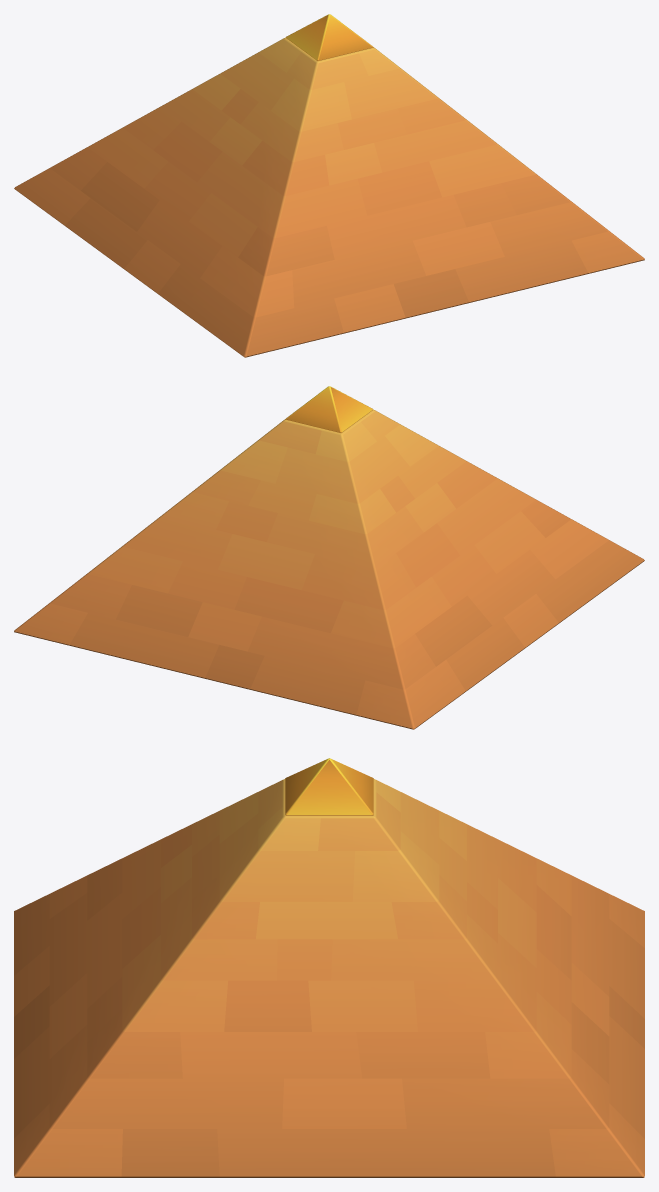
File: pyramid_medium.fbx
The picture shows the model from 3 angles, top to bottom: view 1: azimuth 30°, elevation 25°; view 2: azimuth 150°, elevation 25°; view 3: azimuth 270°, elevation 25°; orthographic projection. The views are drawn at different scales.
Visible parts, largest first — view 1: pyramid_medium; view 2: pyramid_medium; view 3: pyramid_medium.
Boxes of the visible parts, x1,y1,x2,y2 form: pyramid_medium: [14, 14, 644, 357]; pyramid_medium: [14, 386, 644, 729]; pyramid_medium: [14, 758, 644, 1177].
Bounding box in the file's own units: 1393 × 697 × 1393.
